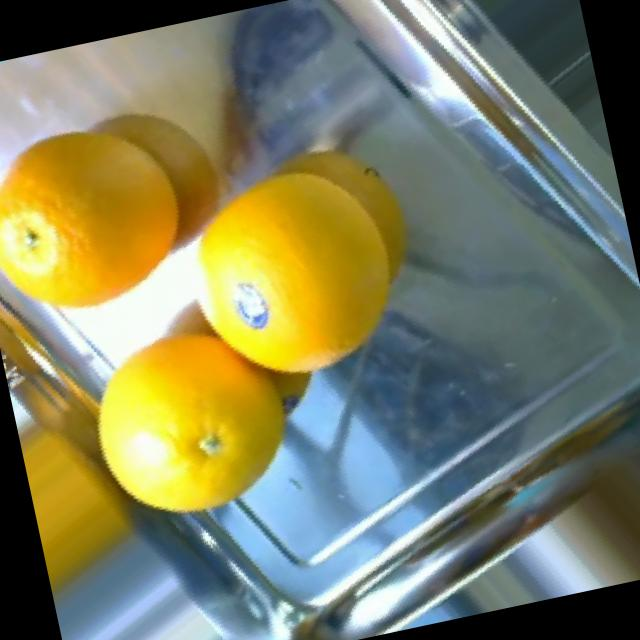Fruit: (0, 225, 55, 401)
